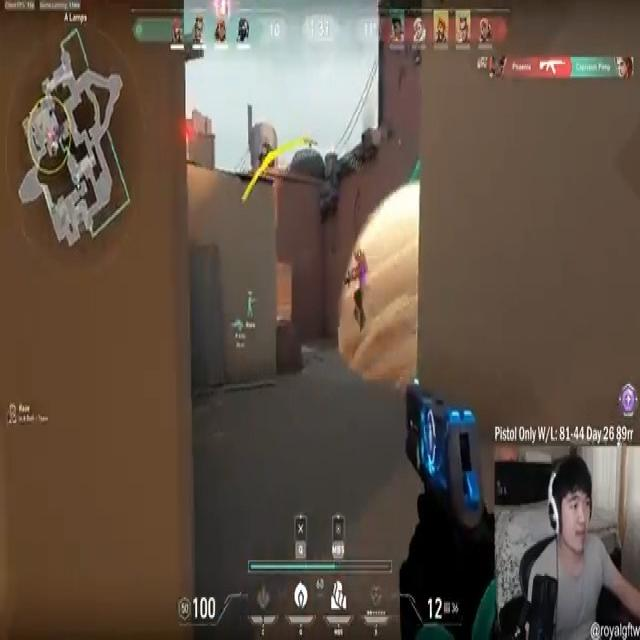ally behind wall: (246, 292, 257, 319)
enemy: (346, 249, 368, 333)
smoke: (338, 187, 421, 389)
